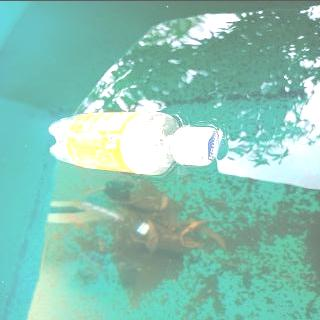bottle: (48, 110, 222, 175)
